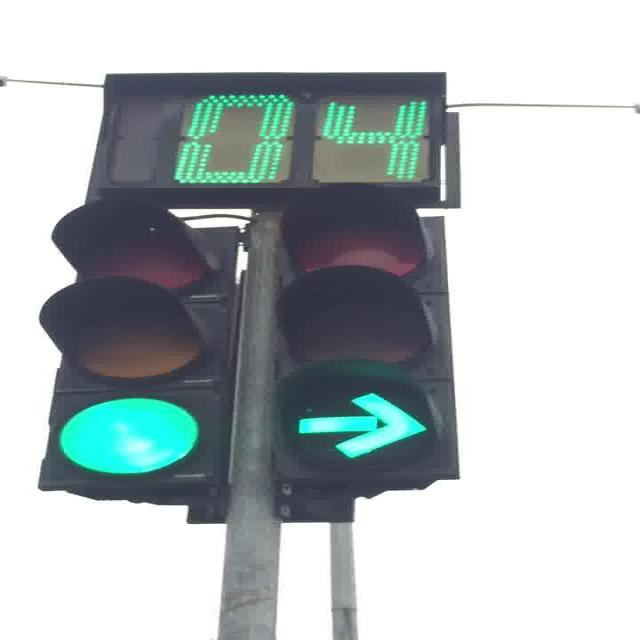traffic light: (37, 201, 246, 516), (268, 187, 462, 519)
